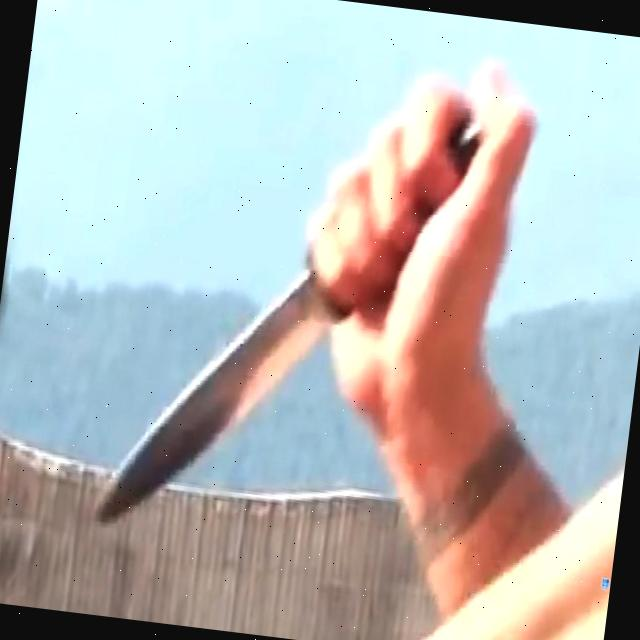suspicion: (74, 7, 562, 640), (89, 246, 352, 558)
